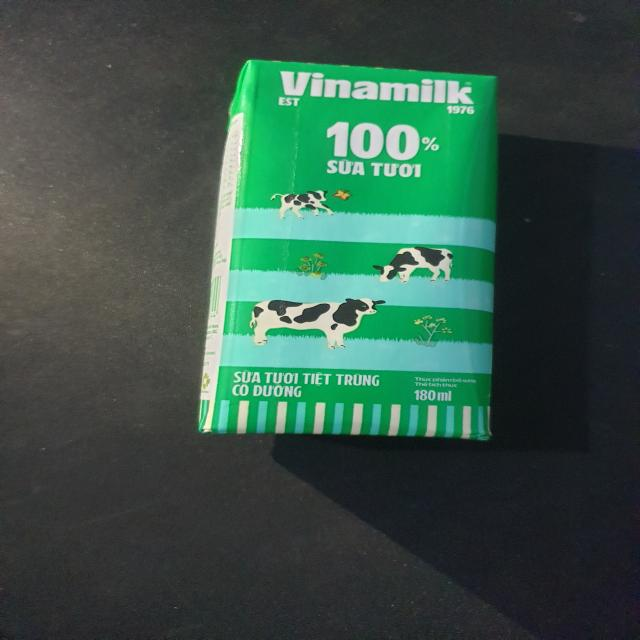Vina: (193, 60, 526, 447)
